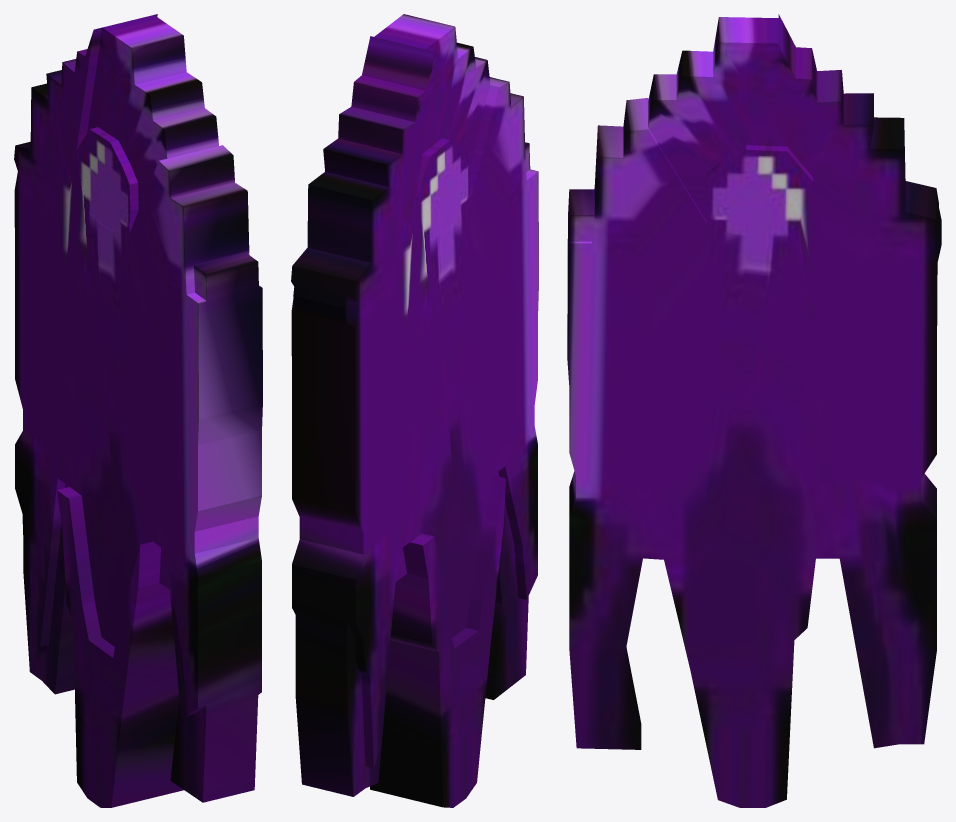
File: rocket-purp.glb
The picture shows the model from 3 angles, left to right: view 1: azimuth 30°, elevation 25°; view 2: azimuth 150°, elevation 25°; view 3: azimuth 270°, elevation 25°; orthographic projection.
Visible parts, largest first — view 1: Plane.002; view 2: Plane.002; view 3: Plane.002.
Boxes of the visible parts, x1=… form: Plane.002: x1=14, y1=14, x2=262, y2=807; Plane.002: x1=291, y1=14, x2=538, y2=807; Plane.002: x1=567, y1=14, x2=941, y2=807.
Bounding box in the file's own units: 0.4953 × 4.36 × 1.93.
Materials: 1 (1 with a texture image).
